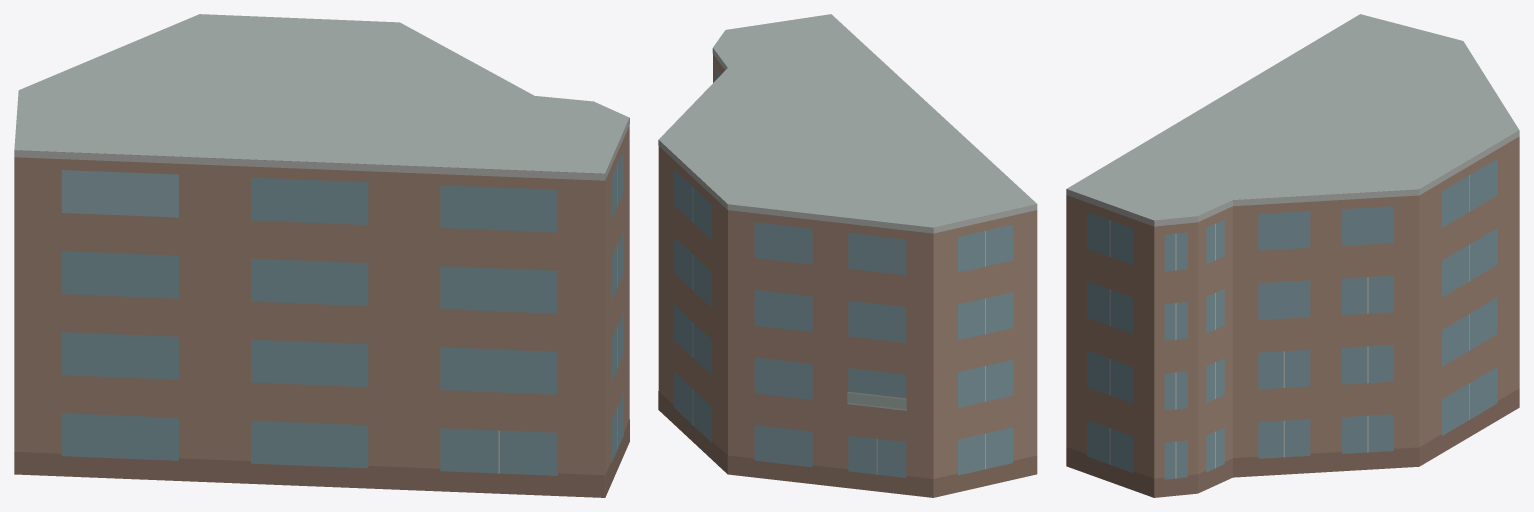
File: survey-upis-32799392.glb
3 renders of one model, left to right at view 1: azimuth 30°, elevation 25°; view 2: azimuth 150°, elevation 25°; view 3: azimuth 270°, elevation 25°, orthographic. The views are drawn at different scales.
Parts seen in each view (by area): view 1: survey-upis-32799392.tmp; view 2: survey-upis-32799392.tmp; view 3: survey-upis-32799392.tmp.
Boxes of the visible parts, x1,y1,x2,y2 form: survey-upis-32799392.tmp: (14, 14, 629, 497); survey-upis-32799392.tmp: (658, 14, 1037, 497); survey-upis-32799392.tmp: (1066, 14, 1519, 497).
Size of the model in its own units: 17.74 by 11.1 by 16.44.
